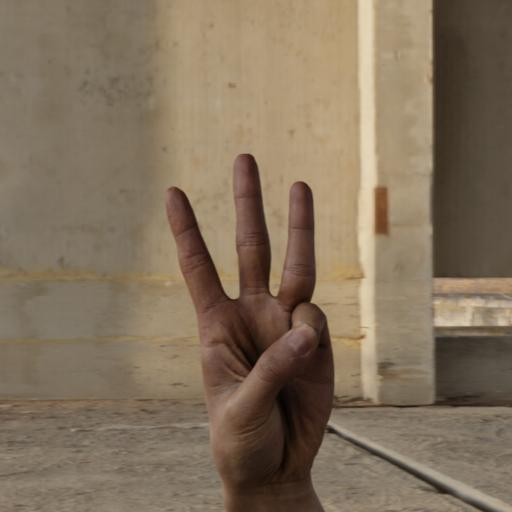W: (146, 152, 444, 491)
